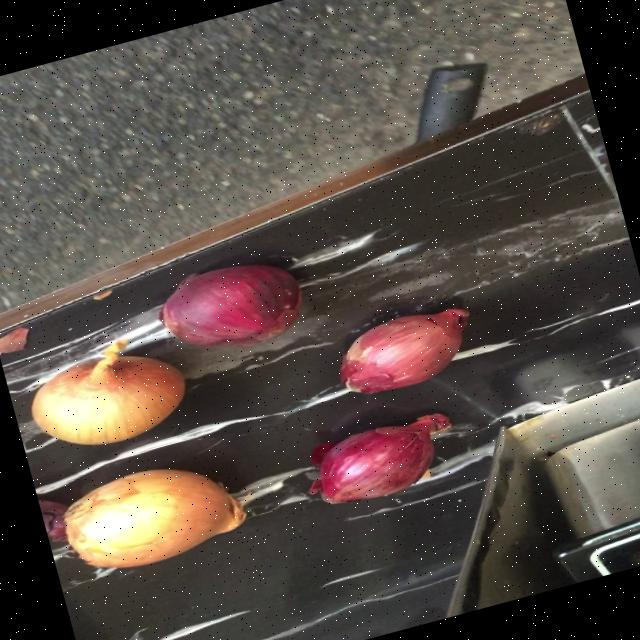Onion: (58, 469, 245, 567), (29, 339, 184, 443), (308, 412, 451, 503), (158, 263, 300, 345), (340, 307, 469, 392)
